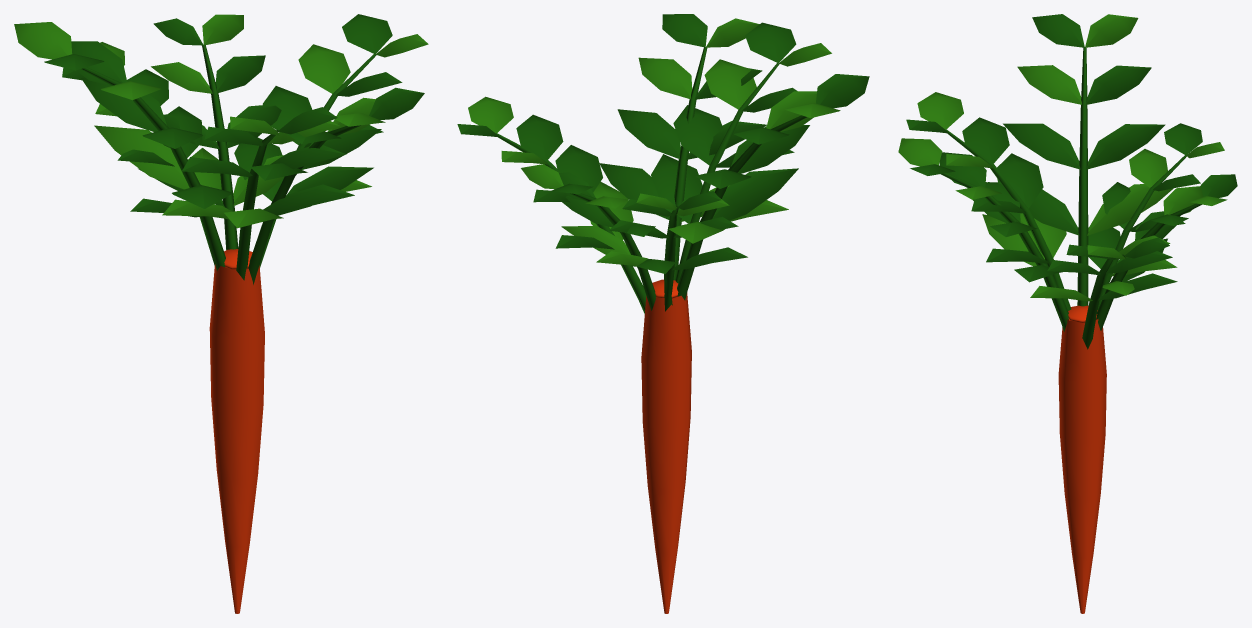
Rendered from Carrot_2.obj.
The picture shows the model from 3 angles, left to right: view 1: azimuth 30°, elevation 25°; view 2: azimuth 150°, elevation 25°; view 3: azimuth 270°, elevation 25°; orthographic projection. The views are drawn at different scales.
Parts seen in each view (by area): view 1: Carrot_2; view 2: Carrot_2; view 3: Carrot_2.
Boxes of the visible parts, bbox=[...] form: Carrot_2: bbox=[14, 14, 428, 613]; Carrot_2: bbox=[457, 14, 869, 613]; Carrot_2: bbox=[898, 14, 1237, 613].
Size of the model in its own units: 0.3586 by 0.5234 by 0.3093.
